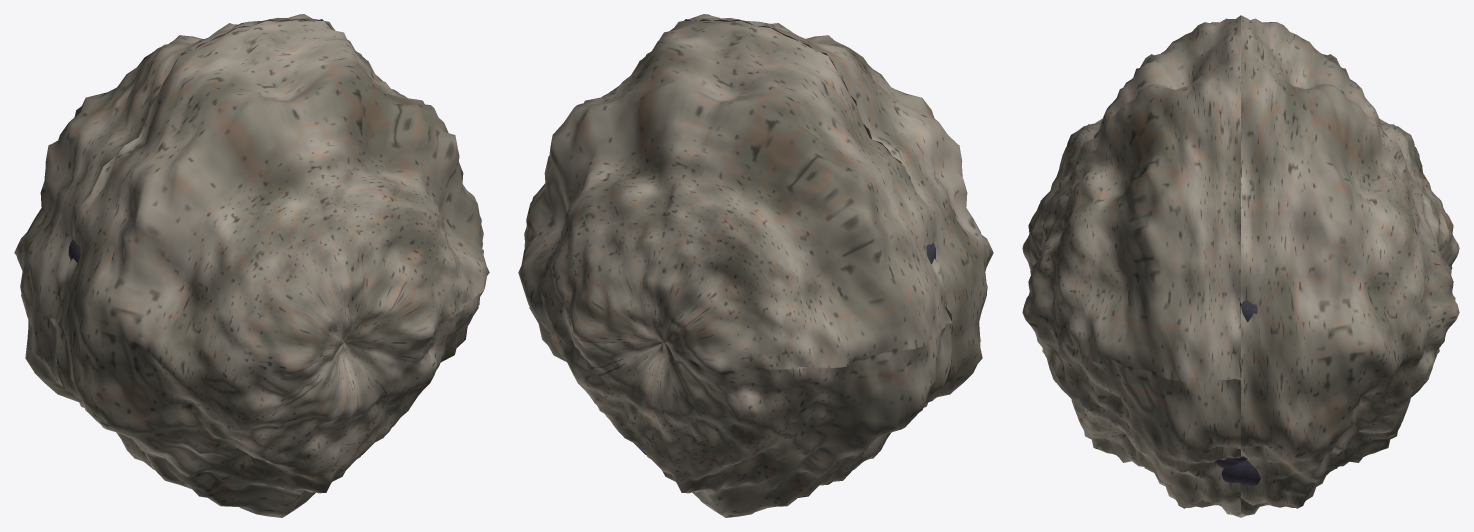
The model's file is botryoidal-chalcedony-study-v1.glb.
3 renders of one model, left to right at view 1: azimuth 30°, elevation 25°; view 2: azimuth 150°, elevation 25°; view 3: azimuth 270°, elevation 25°, orthographic.
Parts seen in each view (by area): view 1: Closed_front, Closed_back; view 2: Closed_back, Closed_front; view 3: Closed_front, Closed_back, Crystals_1_0.
Part boxes in pixels (x1=…): Closed_front: x1=55, y1=20, x2=489, y2=517; Closed_back: x1=14, y1=14, x2=383, y2=469; Closed_back: x1=518, y1=20, x2=952, y2=517; Closed_front: x1=613, y1=14, x2=993, y2=469; Closed_front: x1=1022, y1=15, x2=1240, y2=517; Closed_back: x1=1241, y1=15, x2=1459, y2=517; Crystals_1_0: x1=1239, y1=300, x2=1260, y2=485.
Bounding box in the file's own units: 3.02 × 3.48 × 2.86.
Materials: 8 (8 with a texture image).
